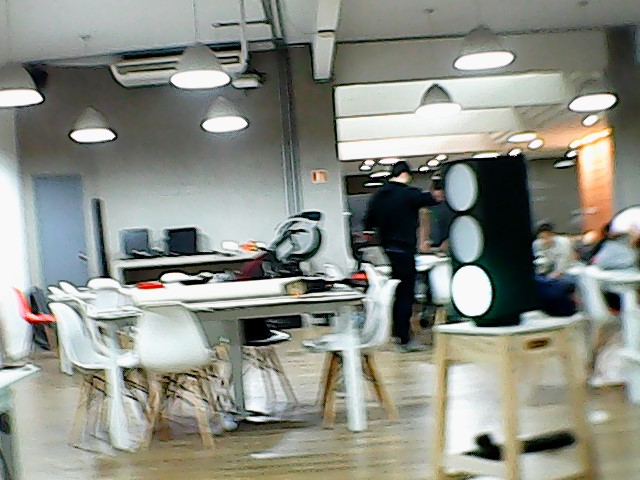verde: (429, 157, 540, 315)
